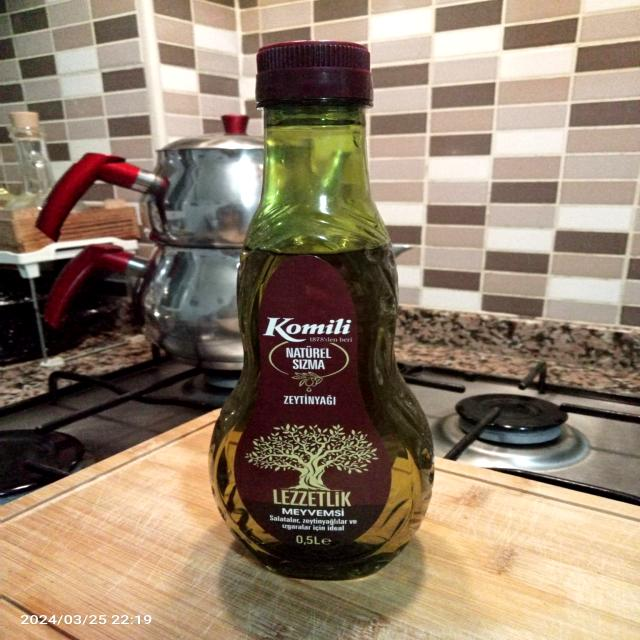olive oil: (175, 30, 444, 577)
